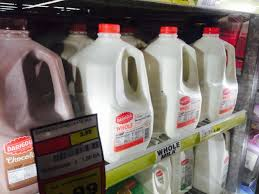milk: (81, 32, 154, 151), (1, 18, 73, 119), (148, 24, 203, 136), (200, 25, 243, 115), (200, 140, 231, 193)
